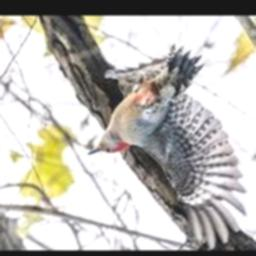Woodpecker: (89, 46, 246, 250)
